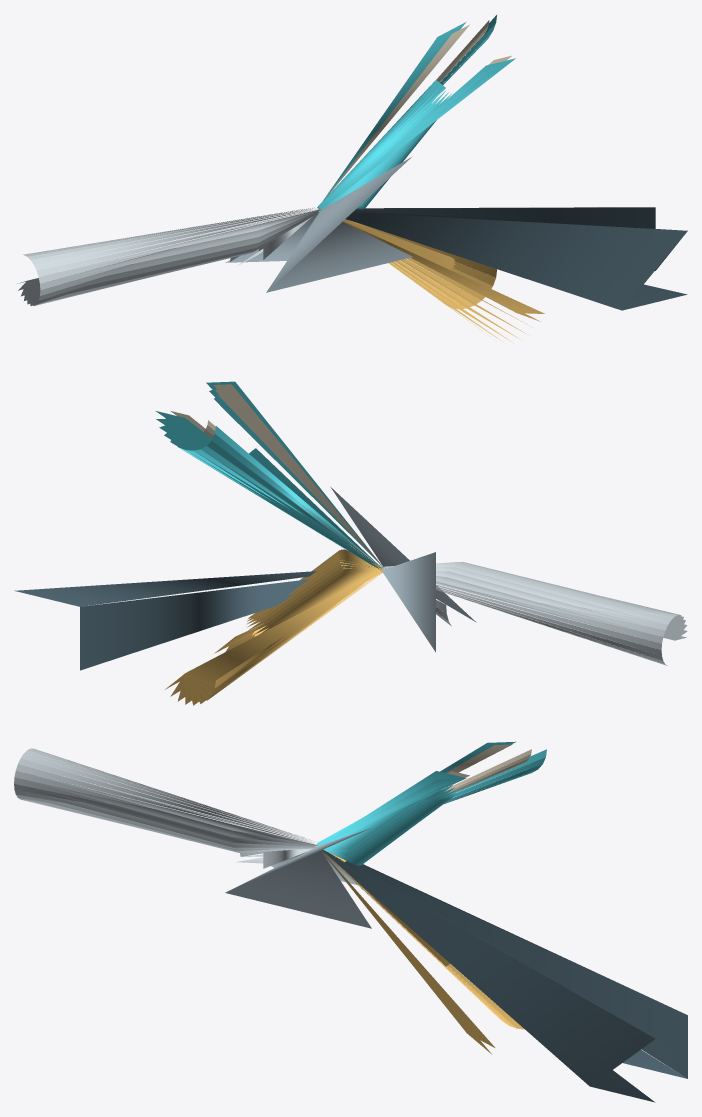
Rendered from WETDRY-O2-REF-head.glb.
The picture shows the model from 3 angles, top to bottom: view 1: azimuth 30°, elevation 25°; view 2: azimuth 150°, elevation 25°; view 3: azimuth 330°, elevation 25°; orthographic projection.
Parts seen in each view (by area): view 1: sensor, frame, manifold, dry, wet, cartridge; view 2: sensor, frame, wet, dry, manifold, cartridge; view 3: sensor, frame, dry, manifold, wet, cartridge.
Boxes of the visible parts, x1=… form: sensor: x1=318, y1=207, x2=687, y2=310; frame: x1=18, y1=207, x2=320, y2=305; manifold: x1=225, y1=156, x2=412, y2=292; dry: x1=317, y1=15, x2=515, y2=211; wet: x1=318, y1=207, x2=544, y2=342; cartridge: x1=326, y1=20, x2=511, y2=197; sensor: x1=14, y1=571, x2=316, y2=670; frame: x1=381, y1=562, x2=687, y2=665; wet: x1=165, y1=549, x2=383, y2=705; dry: x1=156, y1=381, x2=383, y2=571; manifold: x1=330, y1=486, x2=476, y2=652; cartridge: x1=171, y1=384, x2=381, y2=569; sensor: x1=322, y1=849, x2=687, y2=1102; frame: x1=14, y1=748, x2=317, y2=868; dry: x1=317, y1=741, x2=546, y2=865; manifold: x1=225, y1=828, x2=371, y2=928; wet: x1=321, y1=850, x2=524, y2=1054; cartridge: x1=445, y1=744, x2=531, y2=793.
Bounding box in the file's own units: 254 × 108 × 34.
